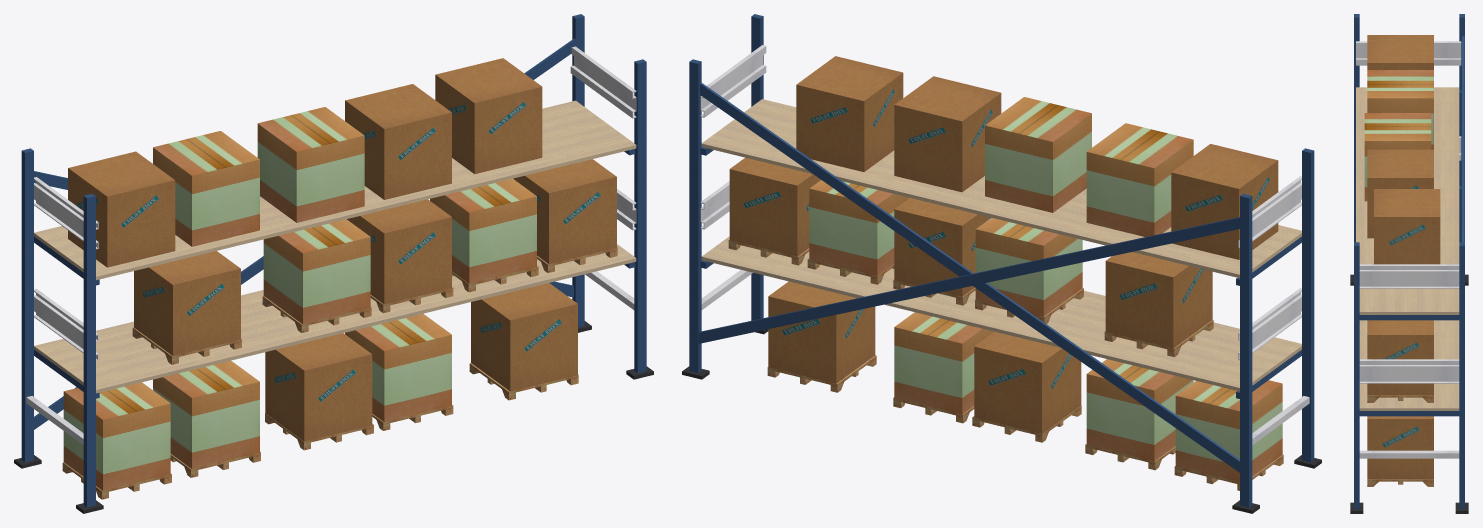
File: BigShelves04Group1.glb
The picture shows the model from 3 angles, left to right: view 1: azimuth 30°, elevation 25°; view 2: azimuth 150°, elevation 25°; view 3: azimuth 270°, elevation 25°; orthographic projection. The views are drawn at different scales.
Visible parts, largest first — view 1: Cardboard_box05, Cardboard_box01, BigShelves04, BigShelvesWoodBox; view 2: Cardboard_box05, BigShelves04, Cardboard_box01, BigShelvesWoodBox; view 3: BigShelves04, Cardboard_box05, Cardboard_box01, BigShelvesWoodBox.
Part boxes in pixels (<box>): Cardboard_box05: <box>68,58,616,441</box>; Cardboard_box01: <box>63,107,536,490</box>; BigShelves04: <box>14,14,653,513</box>; BigShelvesWoodBox: <box>62,247,617,499</box>; Cardboard_box05: <box>729,56,1278,433</box>; BigShelves04: <box>682,14,1321,513</box>; Cardboard_box01: <box>809,97,1282,482</box>; BigShelvesWoodBox: <box>728,239,1283,490</box>; BigShelves04: <box>1350,14,1468,513</box>; Cardboard_box05: <box>1367,35,1440,479</box>; Cardboard_box01: <box>1364,70,1433,201</box>; BigShelvesWoodBox: <box>1367,395,1433,486</box>.
Bounding box in the file's own units: 8.57 × 4.49 × 1.81.
7 materials, 7 textured.
